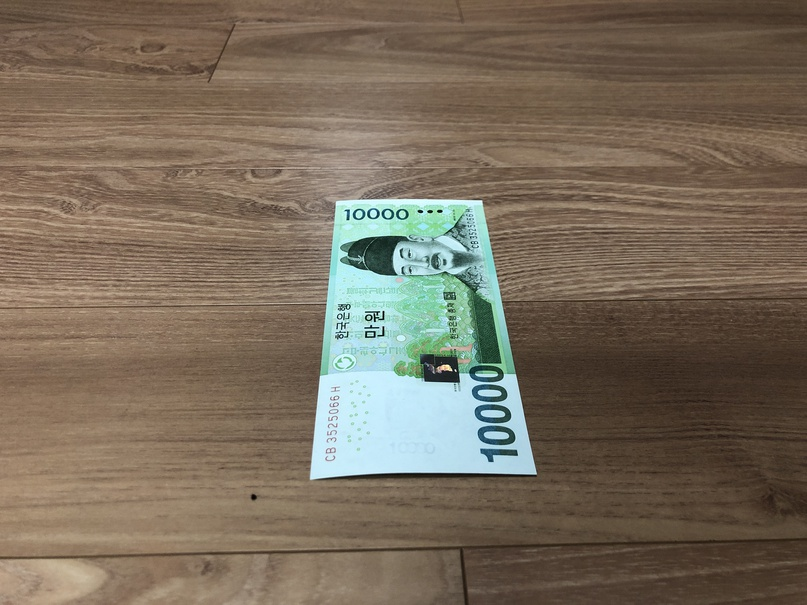10000won: (308, 198, 537, 482)
